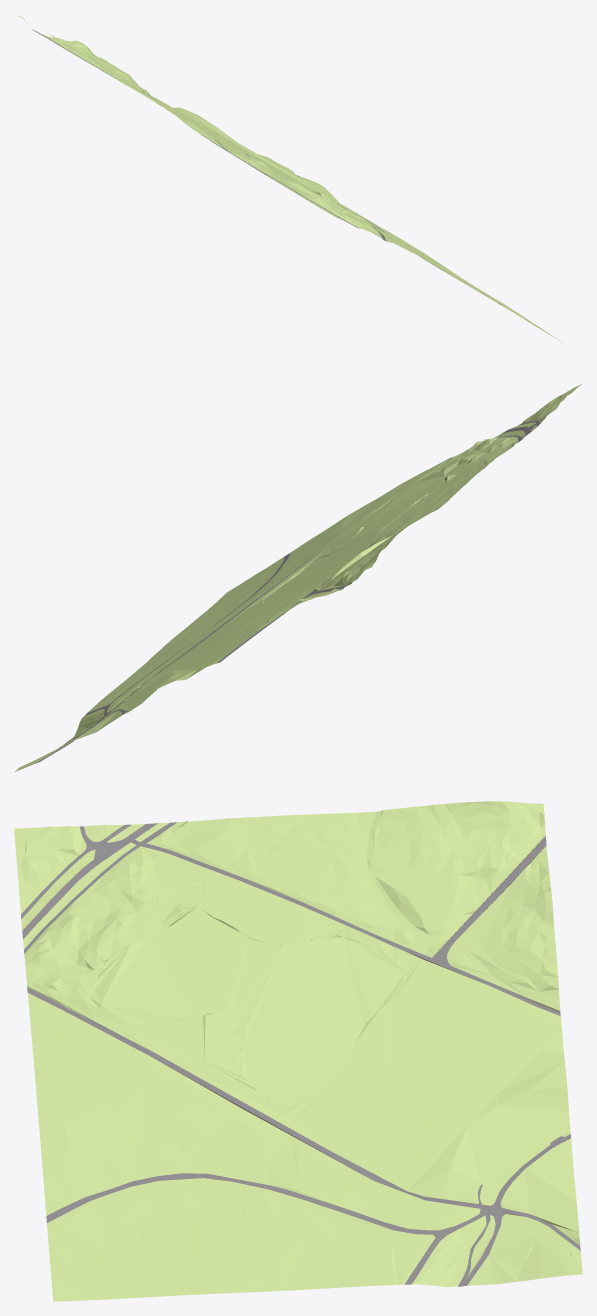
3 views of the same model, one above another, from view 1: azimuth 30°, elevation 25°; view 2: azimuth 150°, elevation 25°; view 3: azimuth 270°, elevation 25° (orthographic). The views are drawn at different scales.
Bounding box in the file's own units: 217 × 162 × 268.
